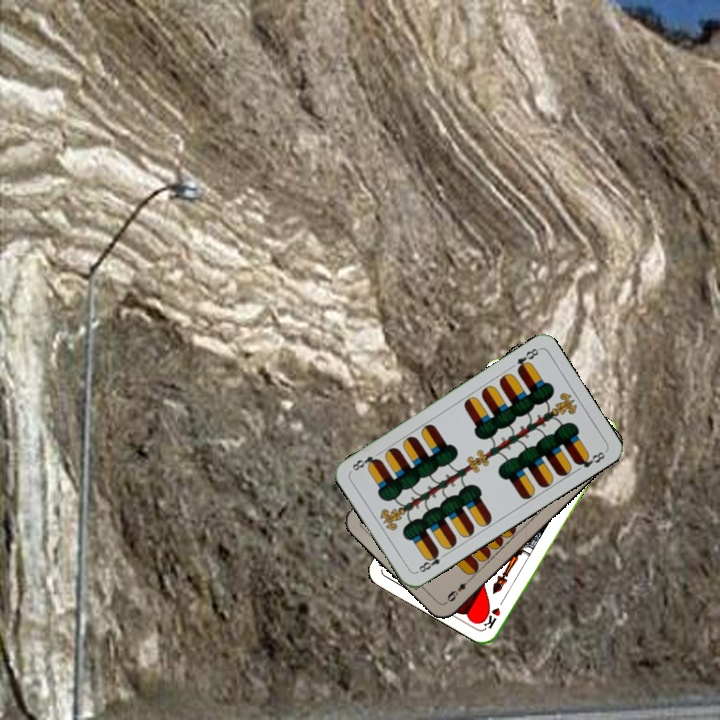E8: (413, 547, 449, 576), (513, 344, 542, 375)
E9: (441, 574, 474, 606)
HK: (479, 593, 507, 631)
